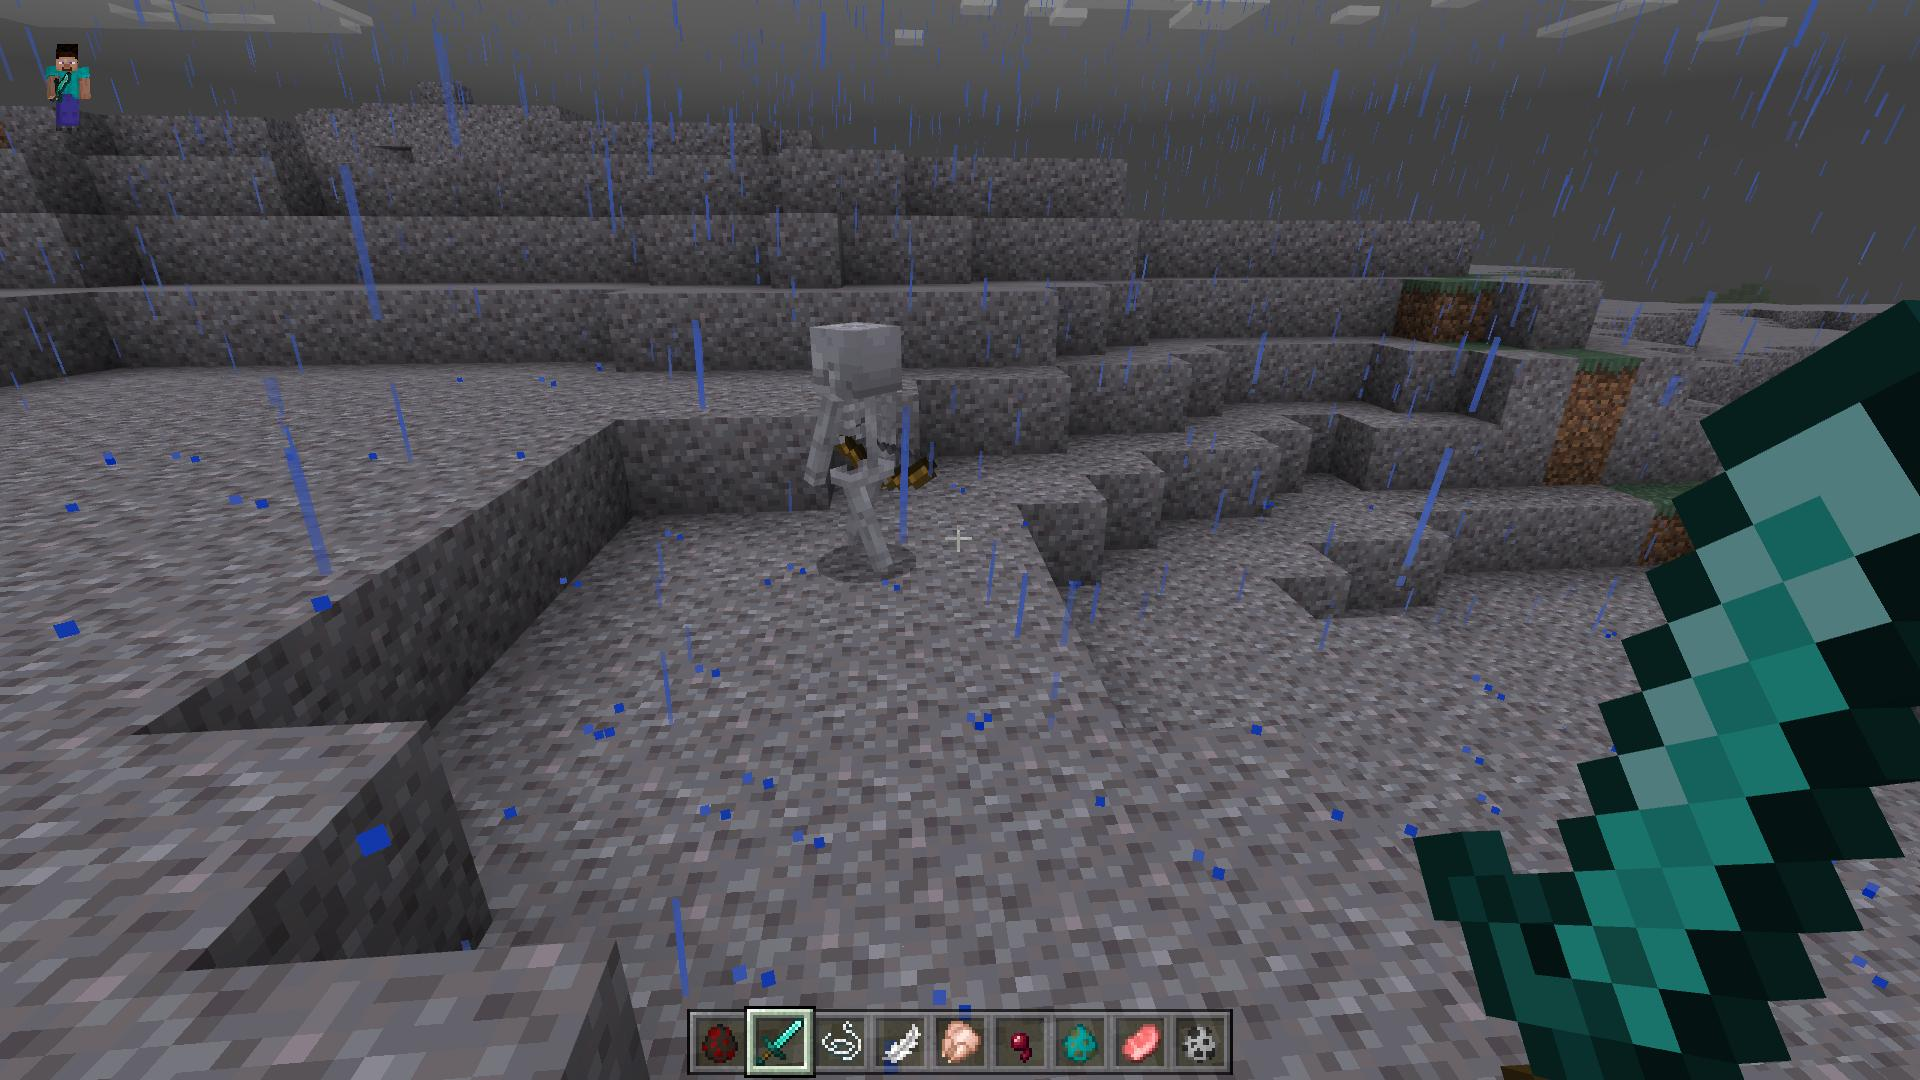skeleton: (810, 318, 932, 579)
